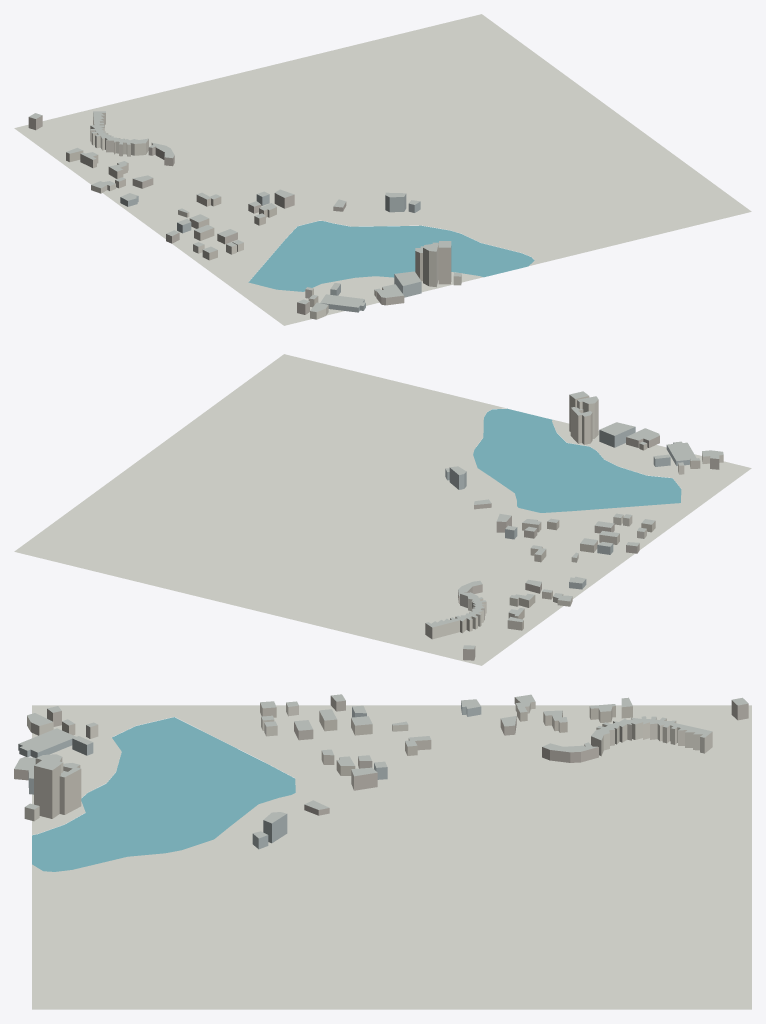
The picture shows the model from 3 angles, top to bottom: view 1: azimuth 30°, elevation 25°; view 2: azimuth 150°, elevation 25°; view 3: azimuth 270°, elevation 25°; orthographic projection. The views are drawn at different scales.
Visible parts, largest first — view 1: city; view 2: city; view 3: city.
Boxes of the visible parts, x1,y1,x2,y2 form: city: (14, 14, 751, 325); city: (14, 354, 751, 665); city: (14, 694, 751, 1009).
Size of the model in its own units: 506 by 37.58 by 512.
